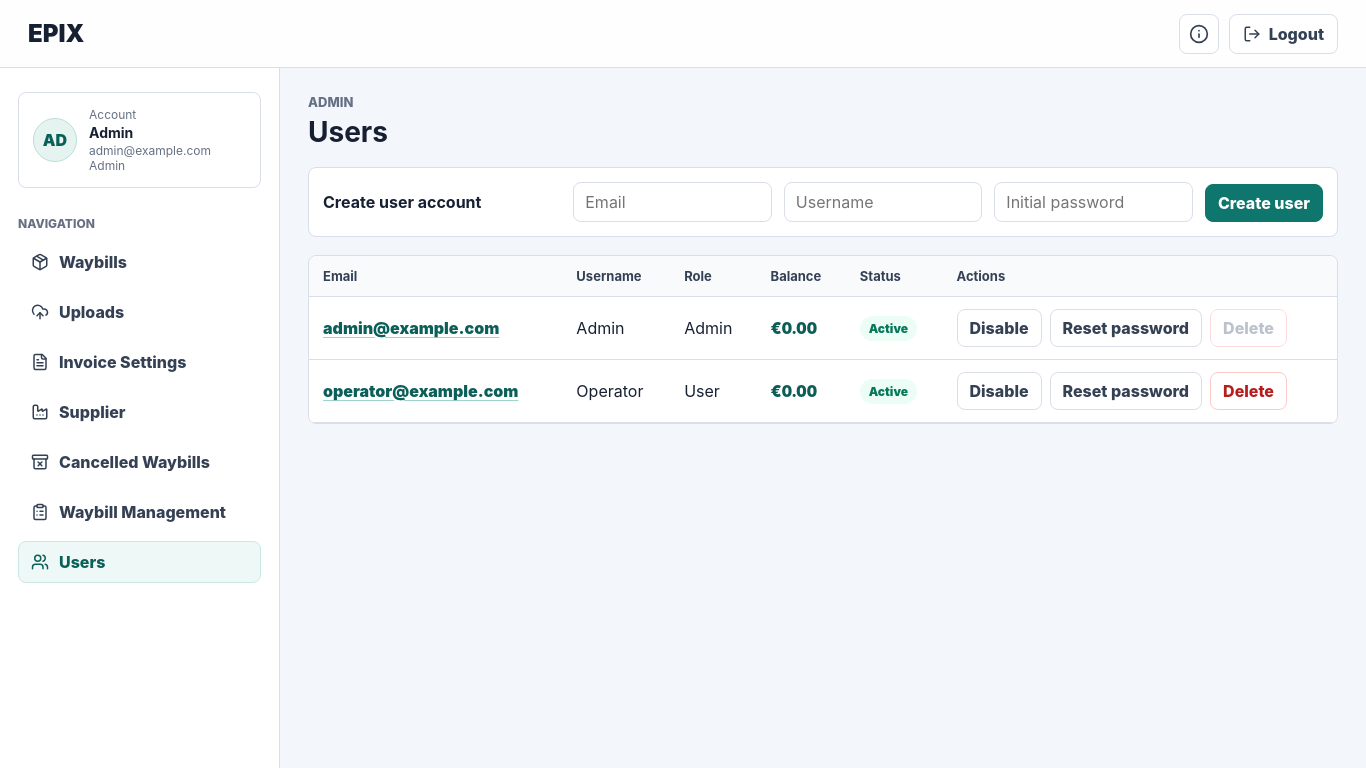
Test: UsersPage › cancels a deduction and displays the refund as an audit entry
Click the button "operator@example.com" at (421, 391), box [323,381,518,401]
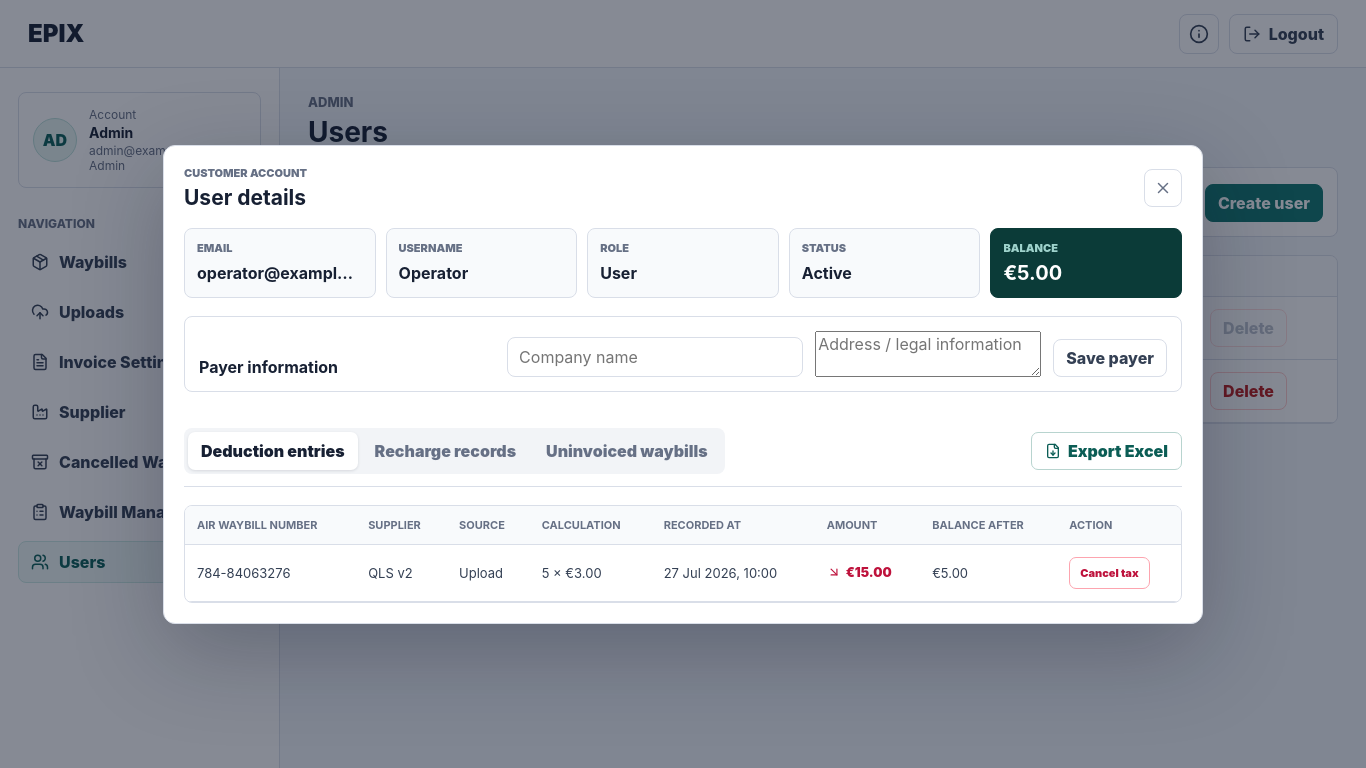
Click the button "Cancel tax" at (1109, 572), box [1069,556,1150,588]
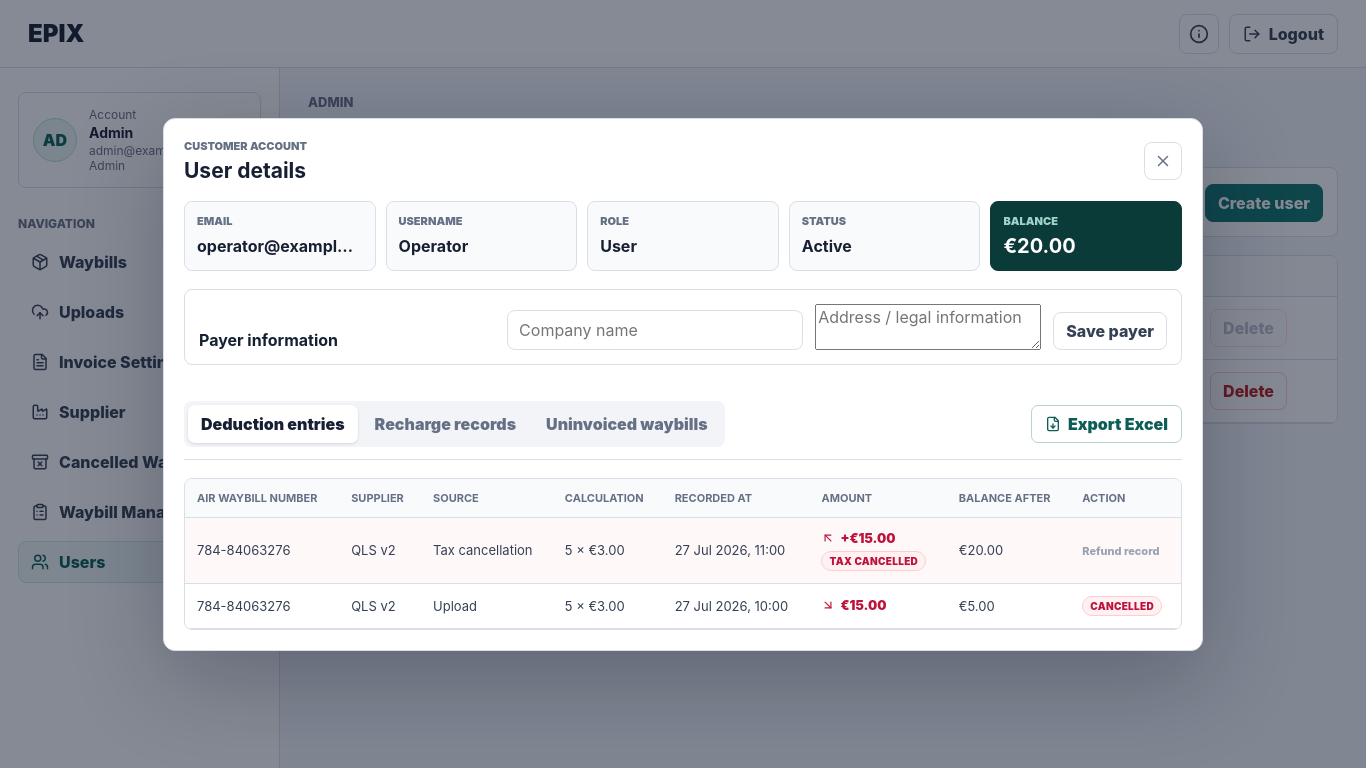
Expected: the text "Tax cancelled" is shown, [822,550,926,570]
Expected: the text "+€15.00" is shown, [822,530,896,546]
Expected: the text "Cancelled" is shown, [1082,596,1162,616]
